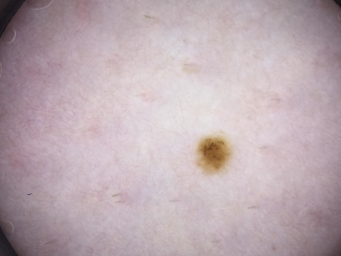nevus: (199, 136, 231, 172)
